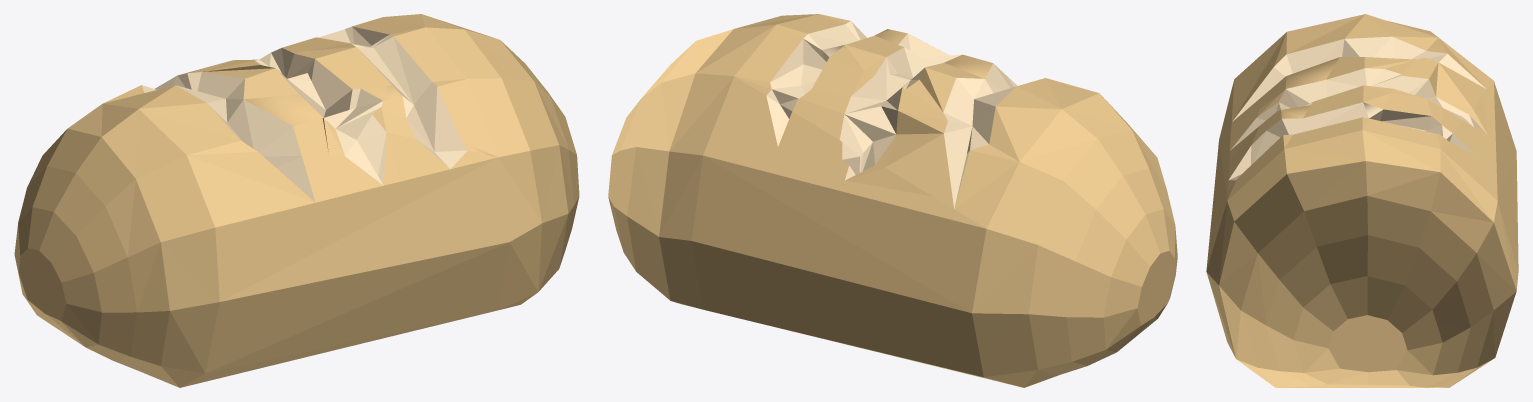
Rendered from loaf-of-bread.fbx.
3 views of the same model, side by side, from view 1: azimuth 30°, elevation 25°; view 2: azimuth 150°, elevation 25°; view 3: azimuth 270°, elevation 25° (orthographic). The views are drawn at different scales.
Visible parts, largest first — view 1: model; view 2: model; view 3: model.
Boxes of the visible parts, left/top/right/bottom form: model: left=14, top=14, right=579, bottom=387; model: left=608, top=14, right=1177, bottom=387; model: left=1206, top=14, right=1518, bottom=387.
Size of the model in its own units: 32.28 by 15 by 18.
